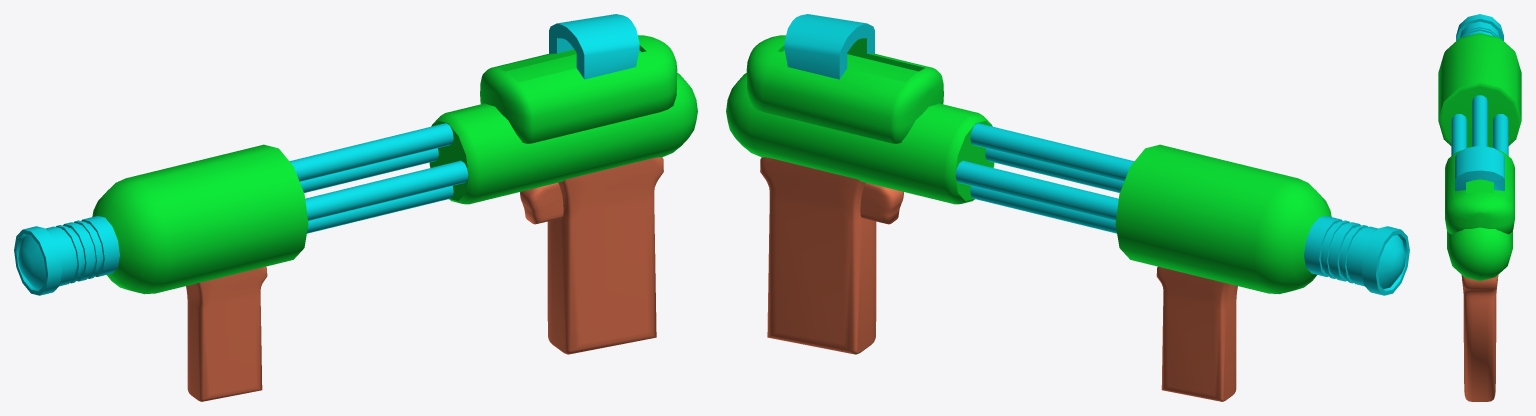
Rendered from laser v1.fbx.
The picture shows the model from 3 angles, left to right: view 1: azimuth 30°, elevation 25°; view 2: azimuth 150°, elevation 25°; view 3: azimuth 270°, elevation 25°; orthographic projection. The views are drawn at different scales.
Visible parts, largest first — view 1: Gun_1_Body; view 2: Gun_1_Body; view 3: Gun_1_Body.
Boxes of the visible parts, x1,y1,x2,y2 form: Gun_1_Body: [14, 14, 697, 401]; Gun_1_Body: [726, 14, 1409, 401]; Gun_1_Body: [1438, 14, 1521, 401].
Size of the model in its own units: 345 by 160 by 53.11.
